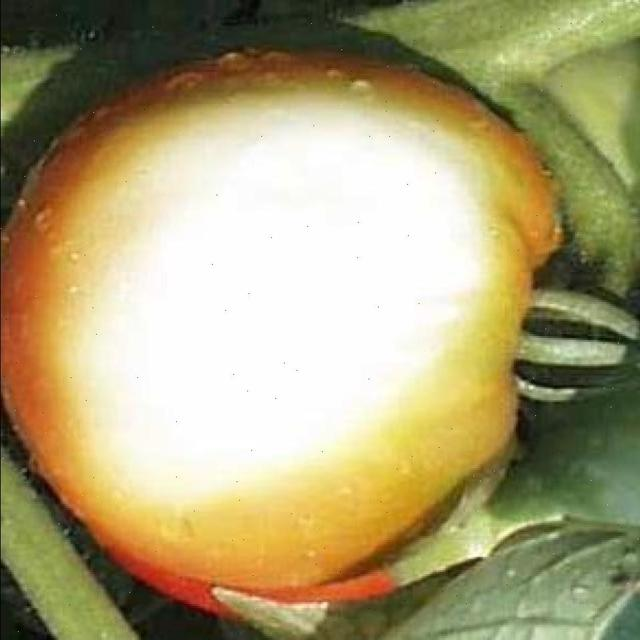Sunscald Fruit: (34, 56, 332, 337)
